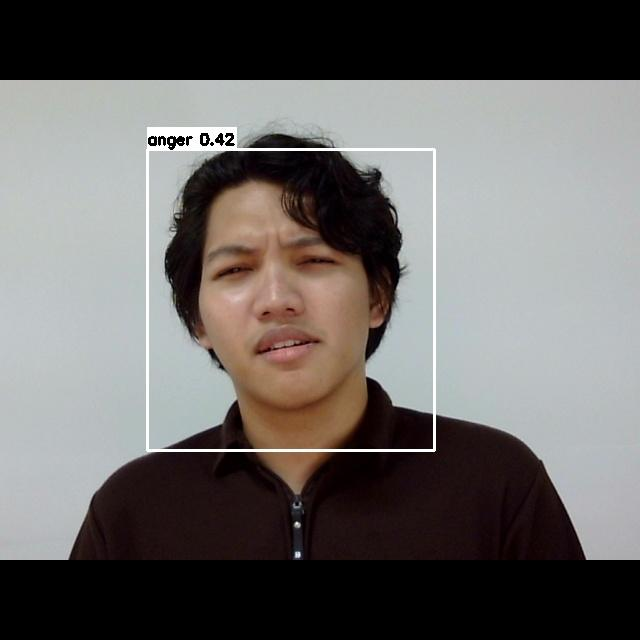Sad: (192, 211, 377, 386)
